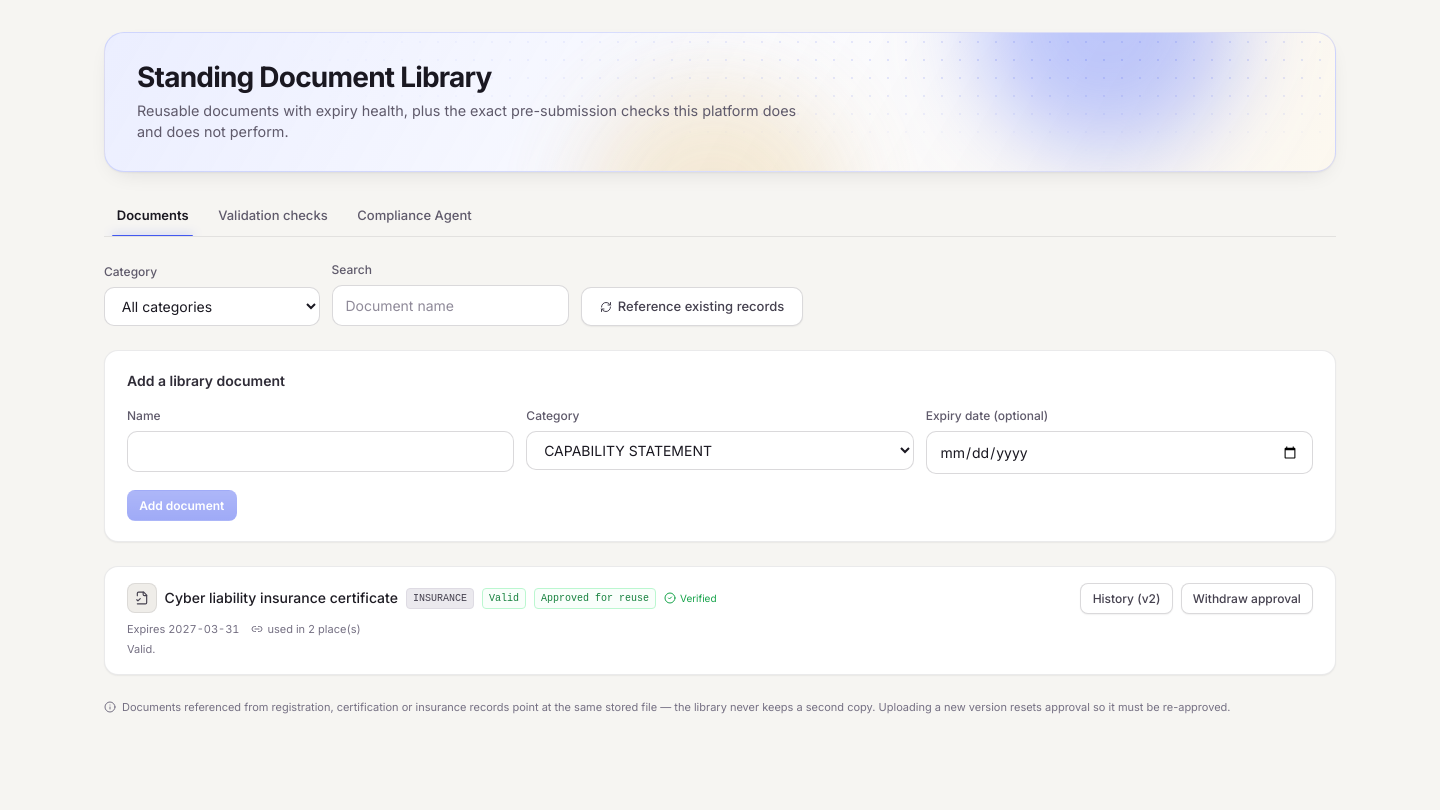
DocumentLibrary — version history › keeps a superseded version listed rather than replacing it
Step 1. Click the button "History (v2)" → (1127, 599), box x1=1080 y1=583 x2=1173 y2=614
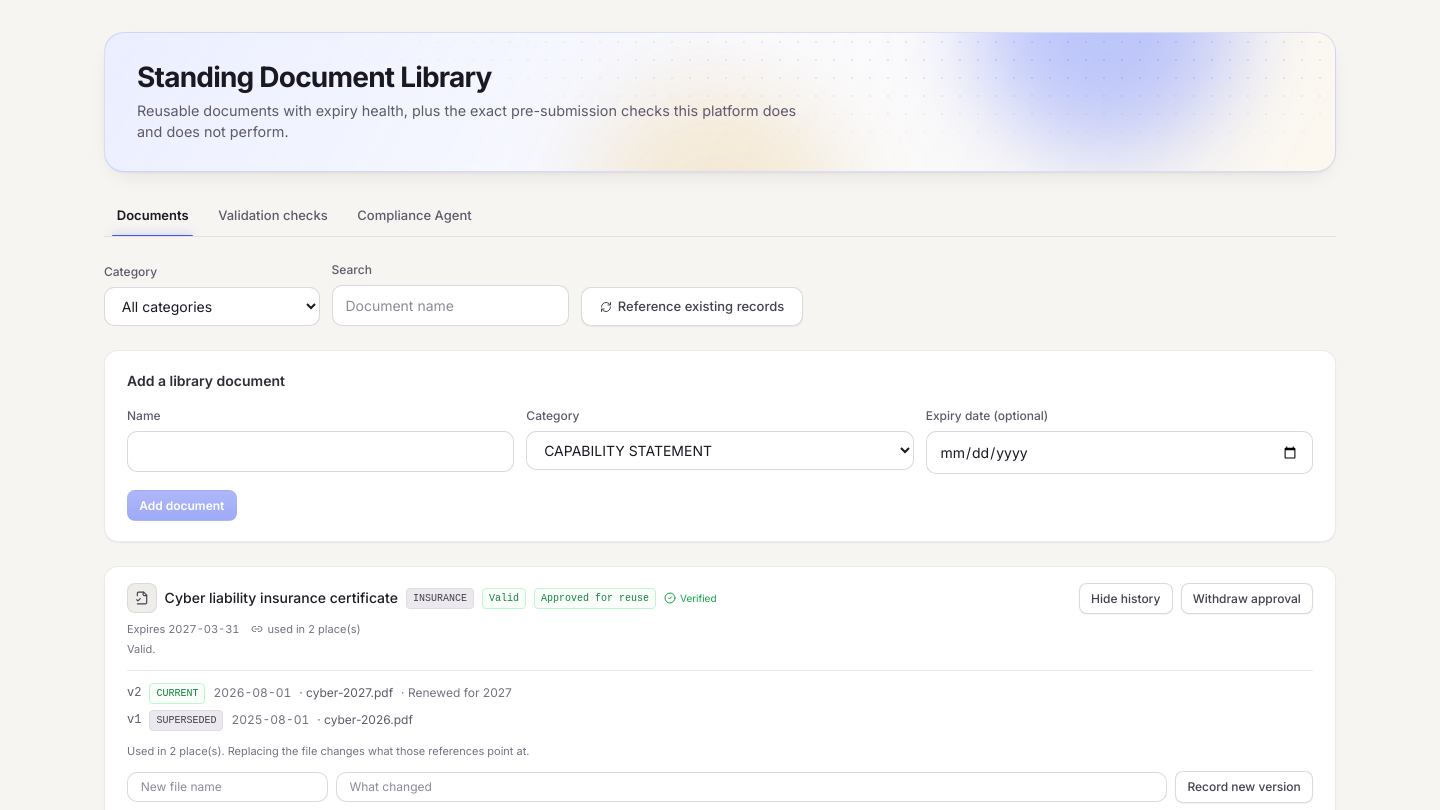
Now the text "CURRENT" is shown, box x1=149 y1=683 x2=205 y2=704
Now the text "SUPERSEDED" is shown, box x1=149 y1=710 x2=223 y2=731
Now the text "· cyber-2026.pdf" is shown, box x1=317 y1=711 x2=413 y2=729
